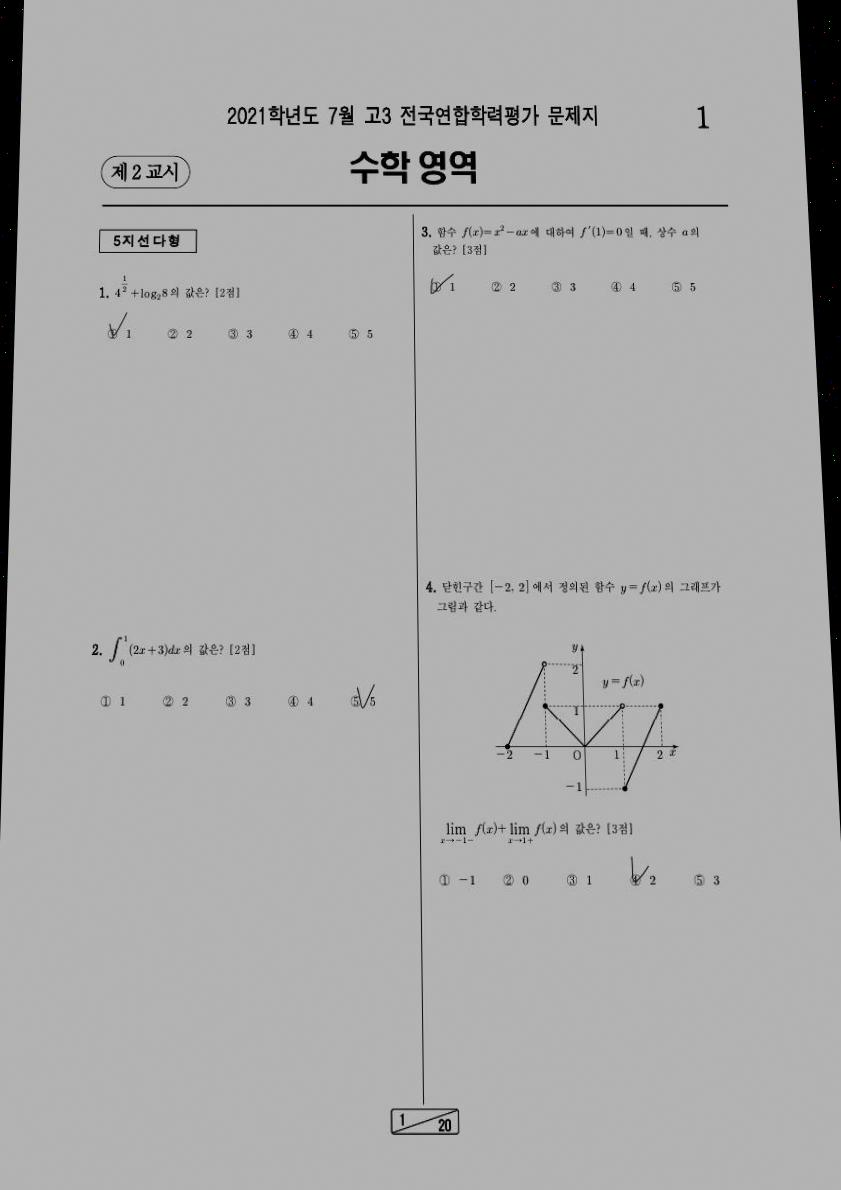question: (413, 568, 744, 906), (78, 623, 391, 733), (413, 214, 715, 310), (76, 267, 394, 357)
